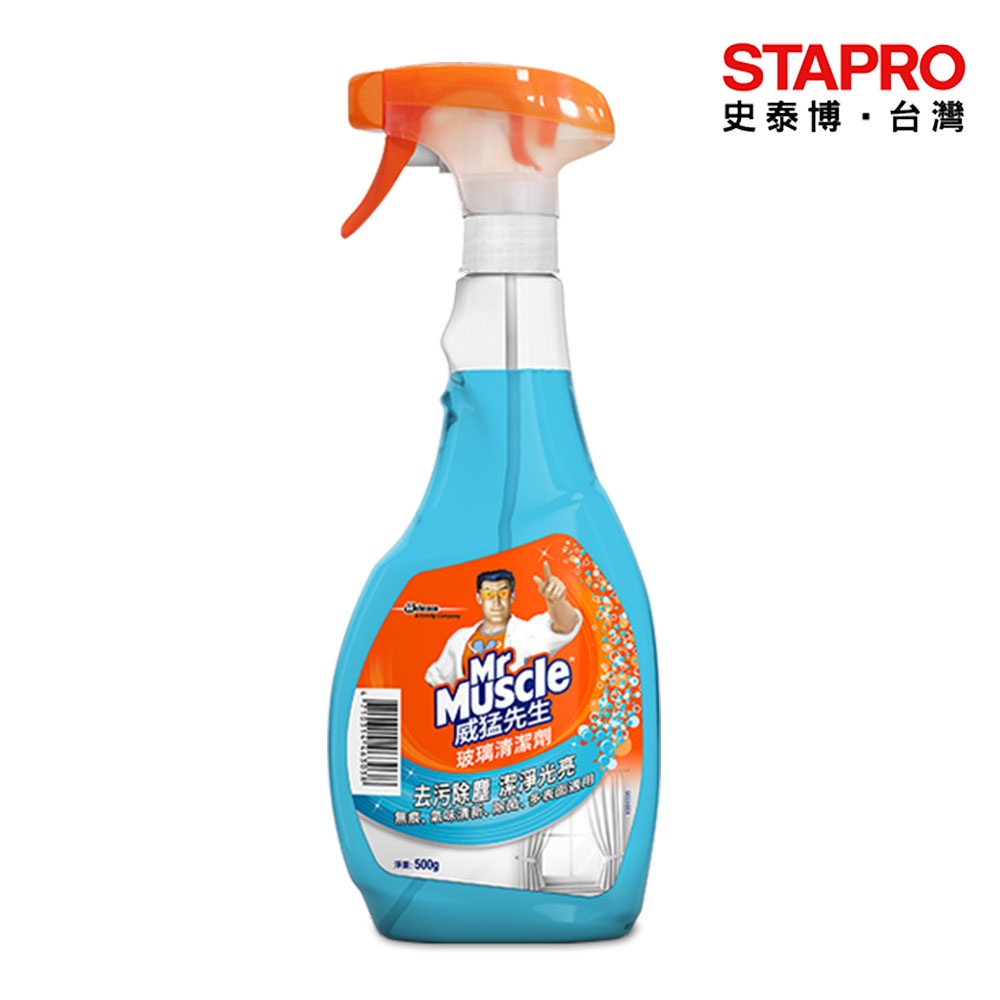cleaner: (239, 62, 657, 951)
